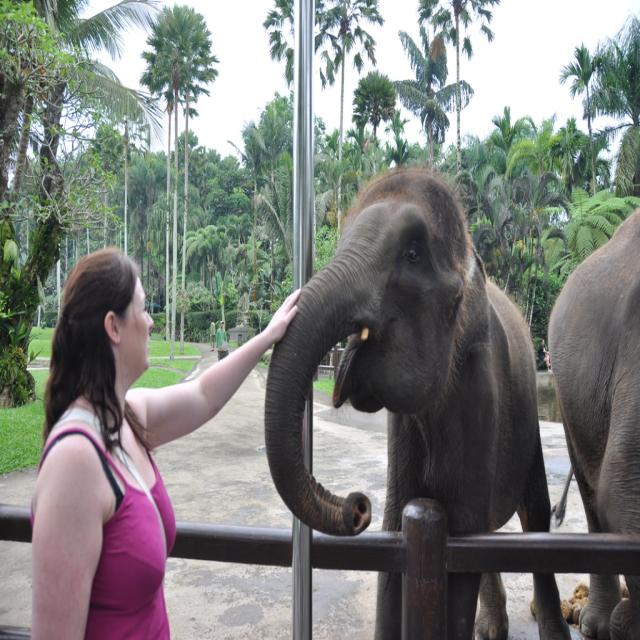elephant: (266, 180, 562, 583), (547, 209, 639, 638)
